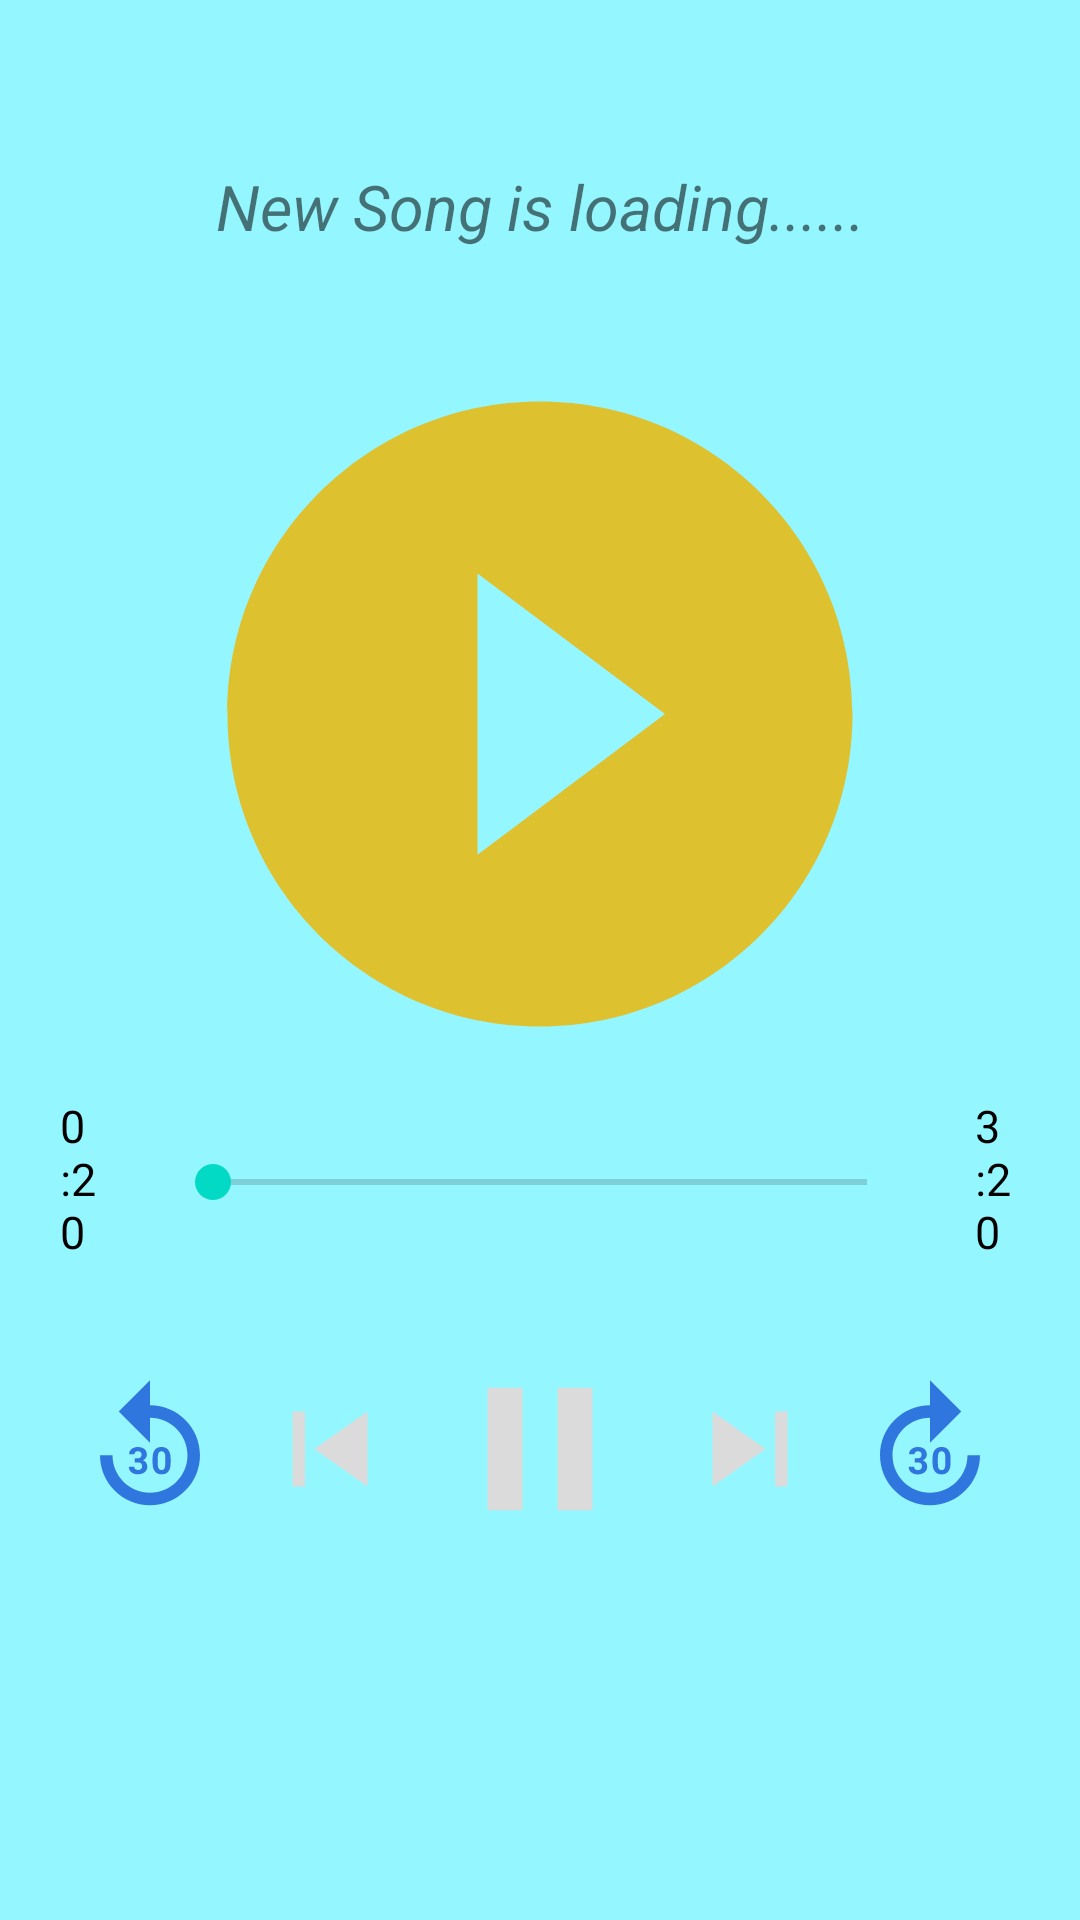

Screen size 1080 x 1920. Icon name, then its center in pixels as point (x, y):
forward: point (930, 1443)
next: point (750, 1449)
pause: point (540, 1449)
previous: point (330, 1449)
replay: point (150, 1443)
